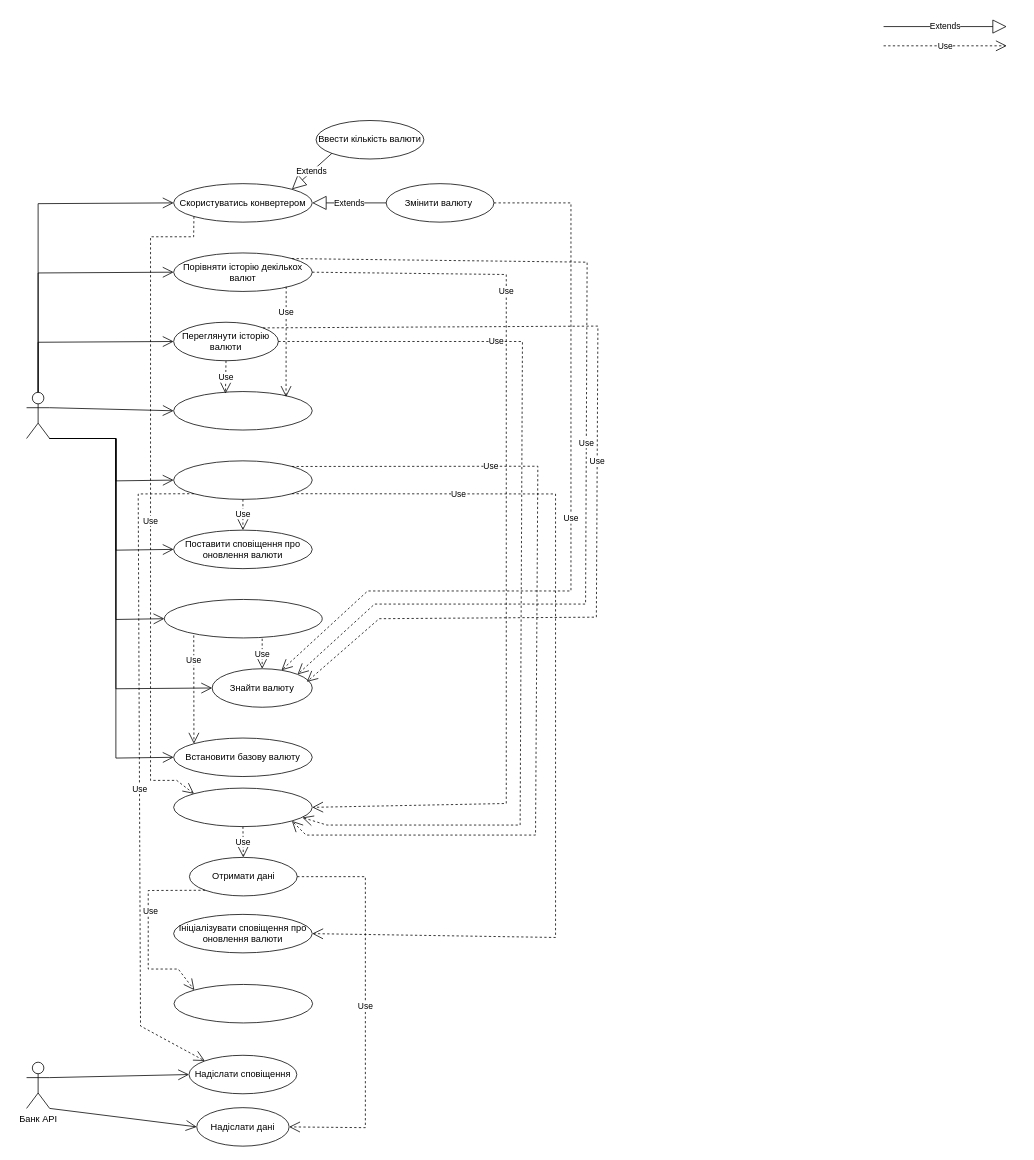
This 1034x1160 diagram has some shape labels left out. The box of each missing label's shape, as (x1, y1, x2, y2) in pixels:
Користувач: (26, 392, 50, 439)
Обрати формат відображення історії: (173, 391, 312, 430)
Обробити дані: (173, 787, 312, 827)
Отримати сповіщення про оновлення валюти: (173, 460, 312, 499)
Перевірити наявність з'єднання: (173, 984, 313, 1023)
Переглянути курс валюти: (164, 599, 322, 638)
